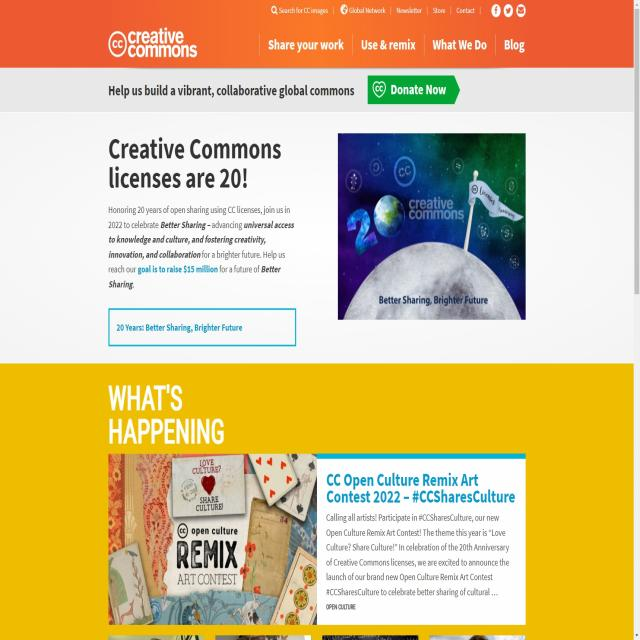menu-panel: (256, 29, 530, 58)
